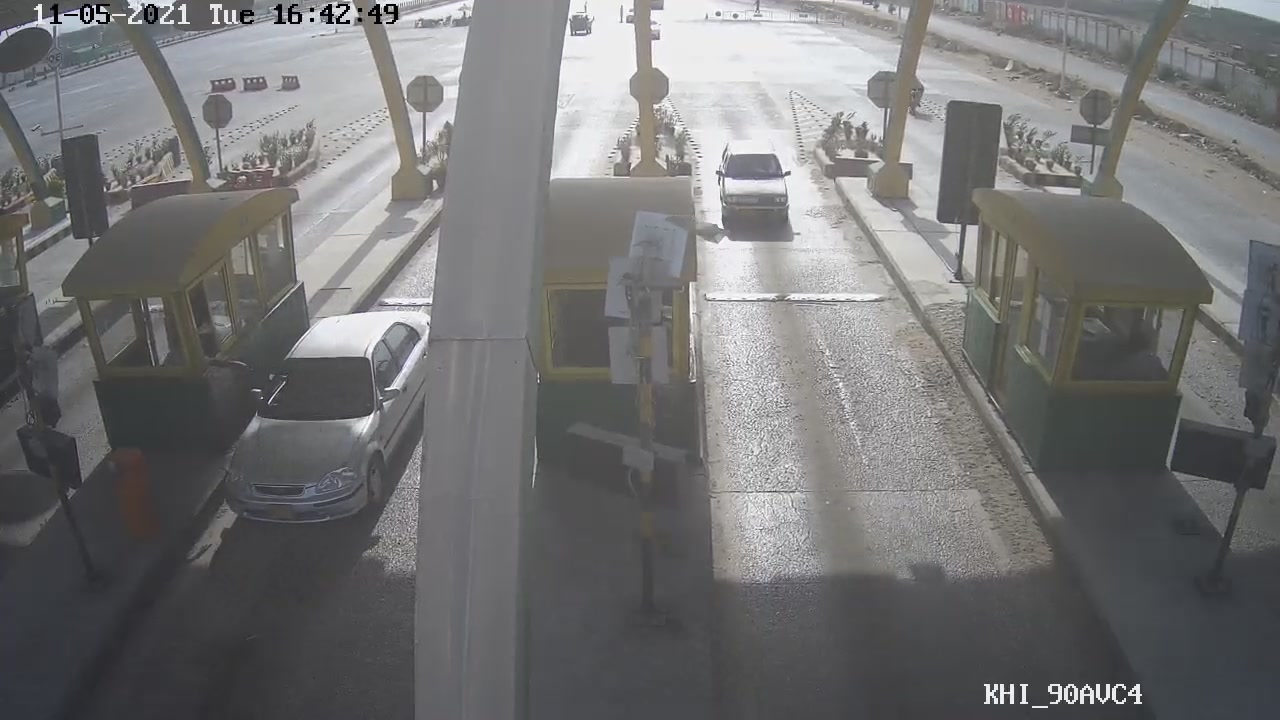F1: (706, 135, 804, 237)
